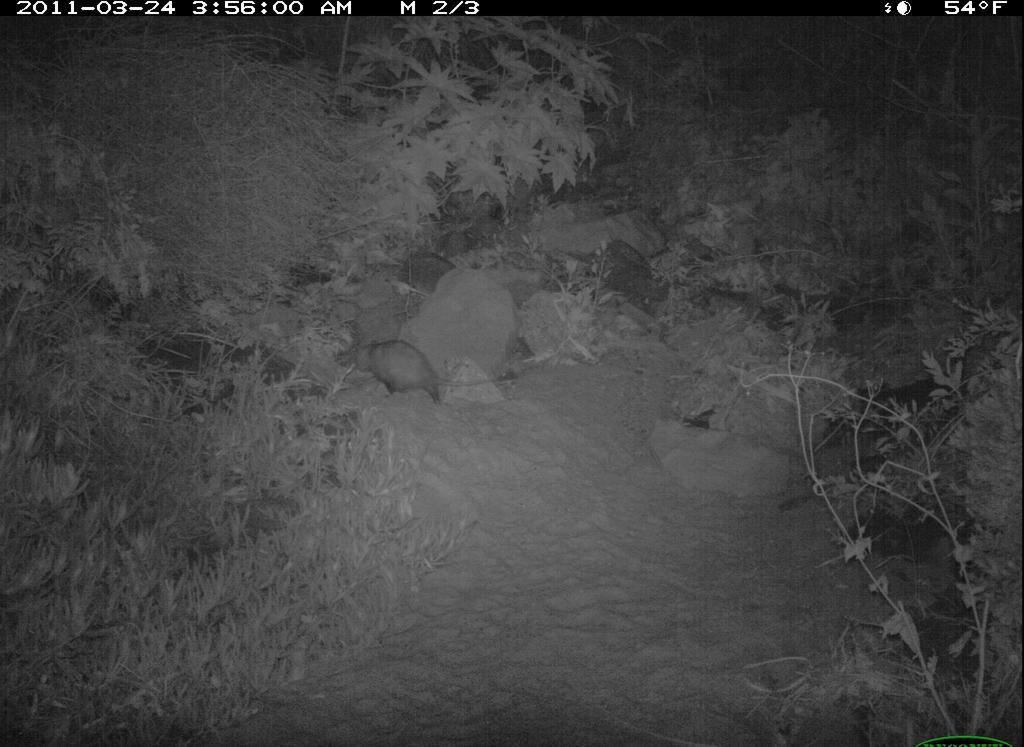opossum: (341, 337, 534, 413)
